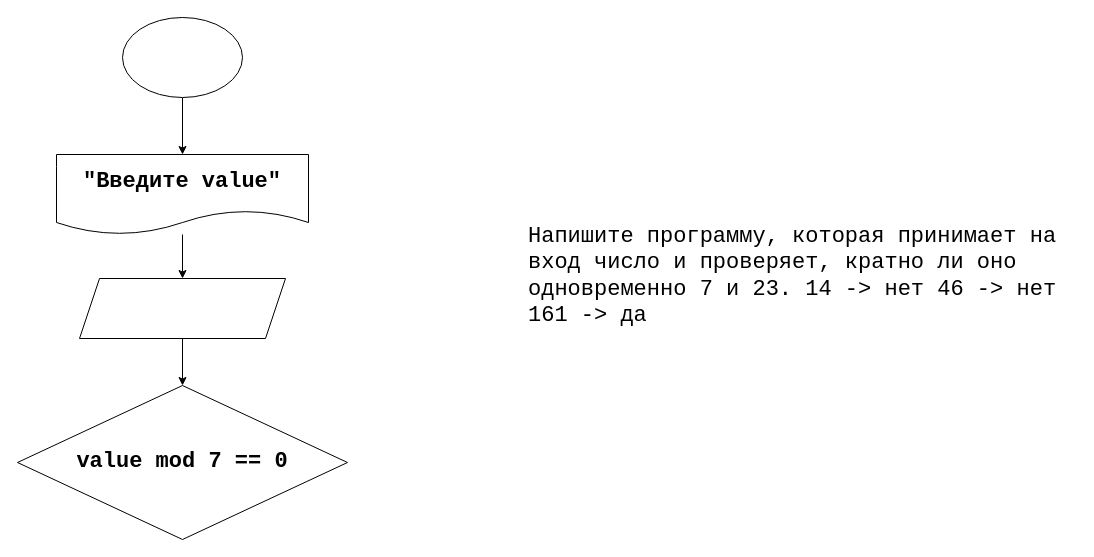
Image size: 1094x557. Some labels were removed from this diagram. The shapes that lost their labels are listed below. From the top down, each one's centre as x and y in pixels, then its label:
At [182,57]: "start".
At [182,308]: "value".
